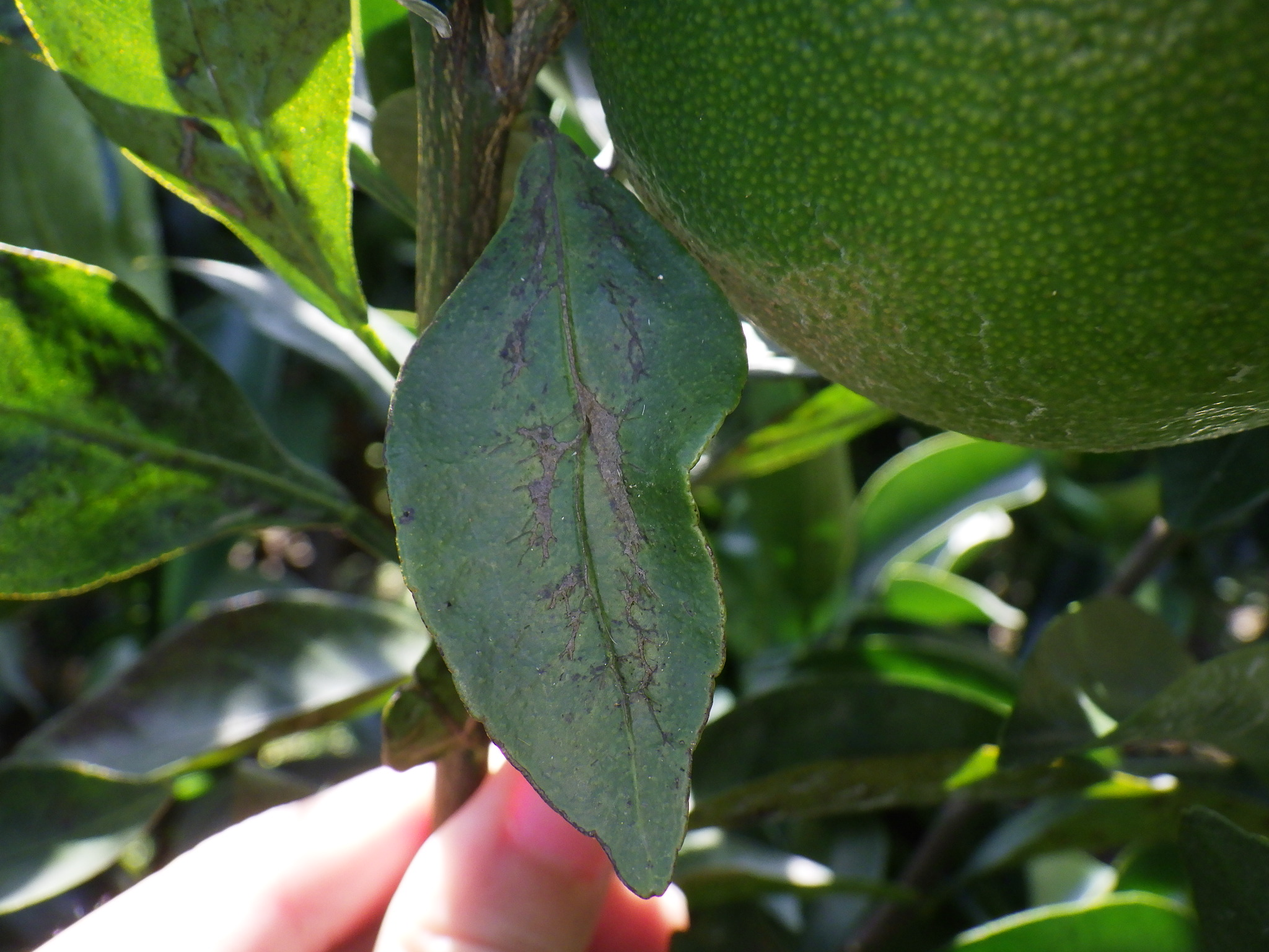Thrips_Damage: (501, 190, 654, 689)
